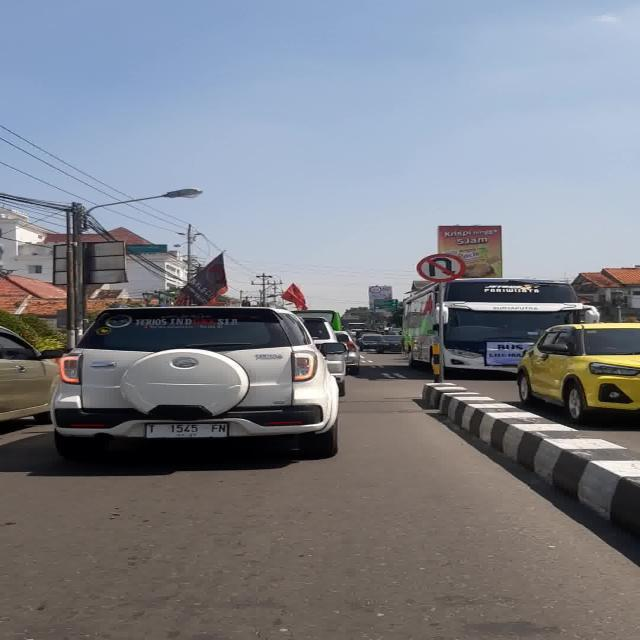Dilarang Putar Balik: (417, 254, 465, 282)
